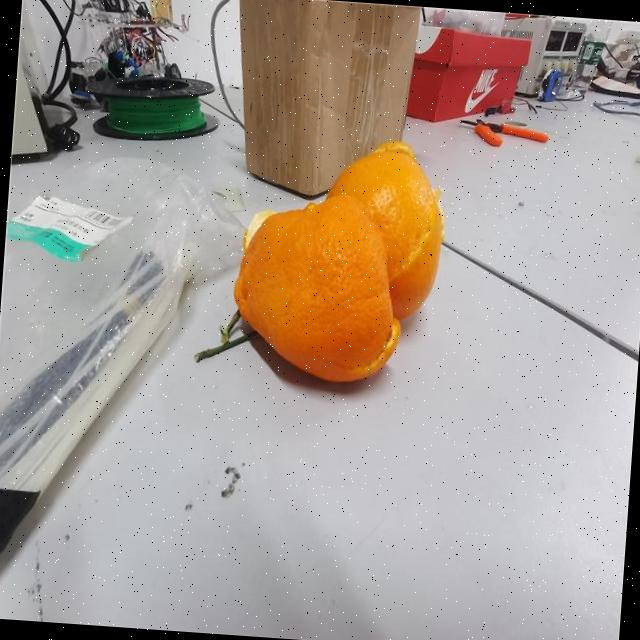orange-peel: (227, 186, 409, 386)
